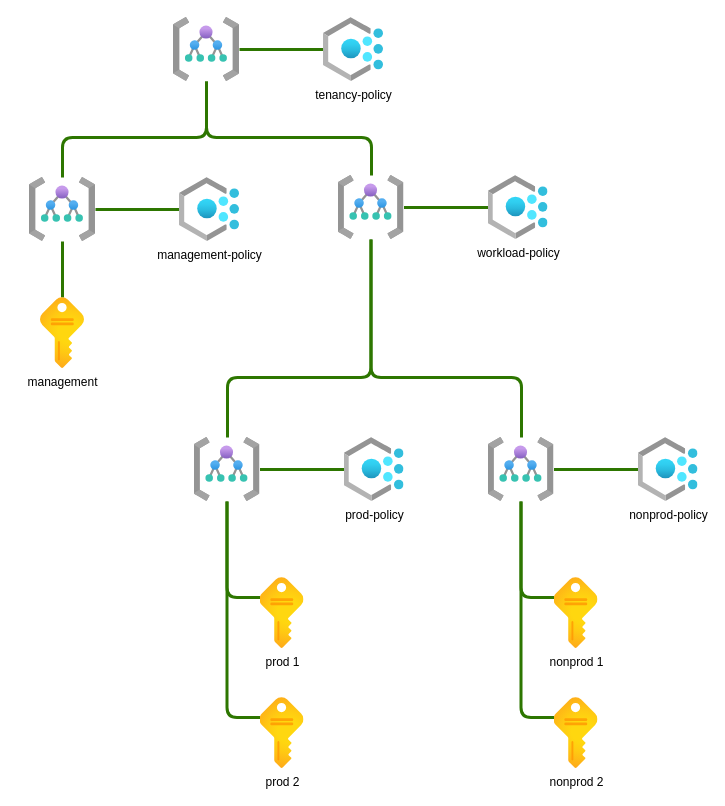
The diagram is 725 pixels wide and 806 high, and some of its shapes have lost their labels. The shapes that lost their labels are listed below. From the top down, each one's centre as x and y in pixels, then its label:
At pixel 206 49: "tenancy-mg".
At pixel 62 209: "management-mg".
At pixel 371 207: "workload-mg".
At pixel 227 469: "prod-mg".
At pixel 521 469: "nonprod-mg".
